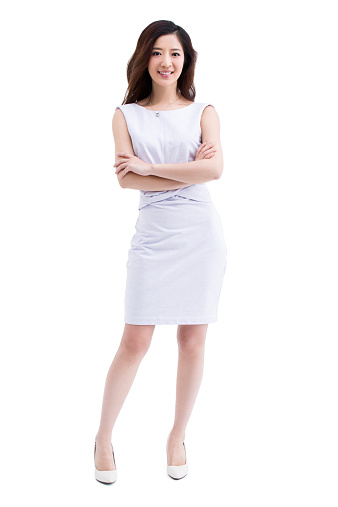em pe: (84, 4, 244, 504)
